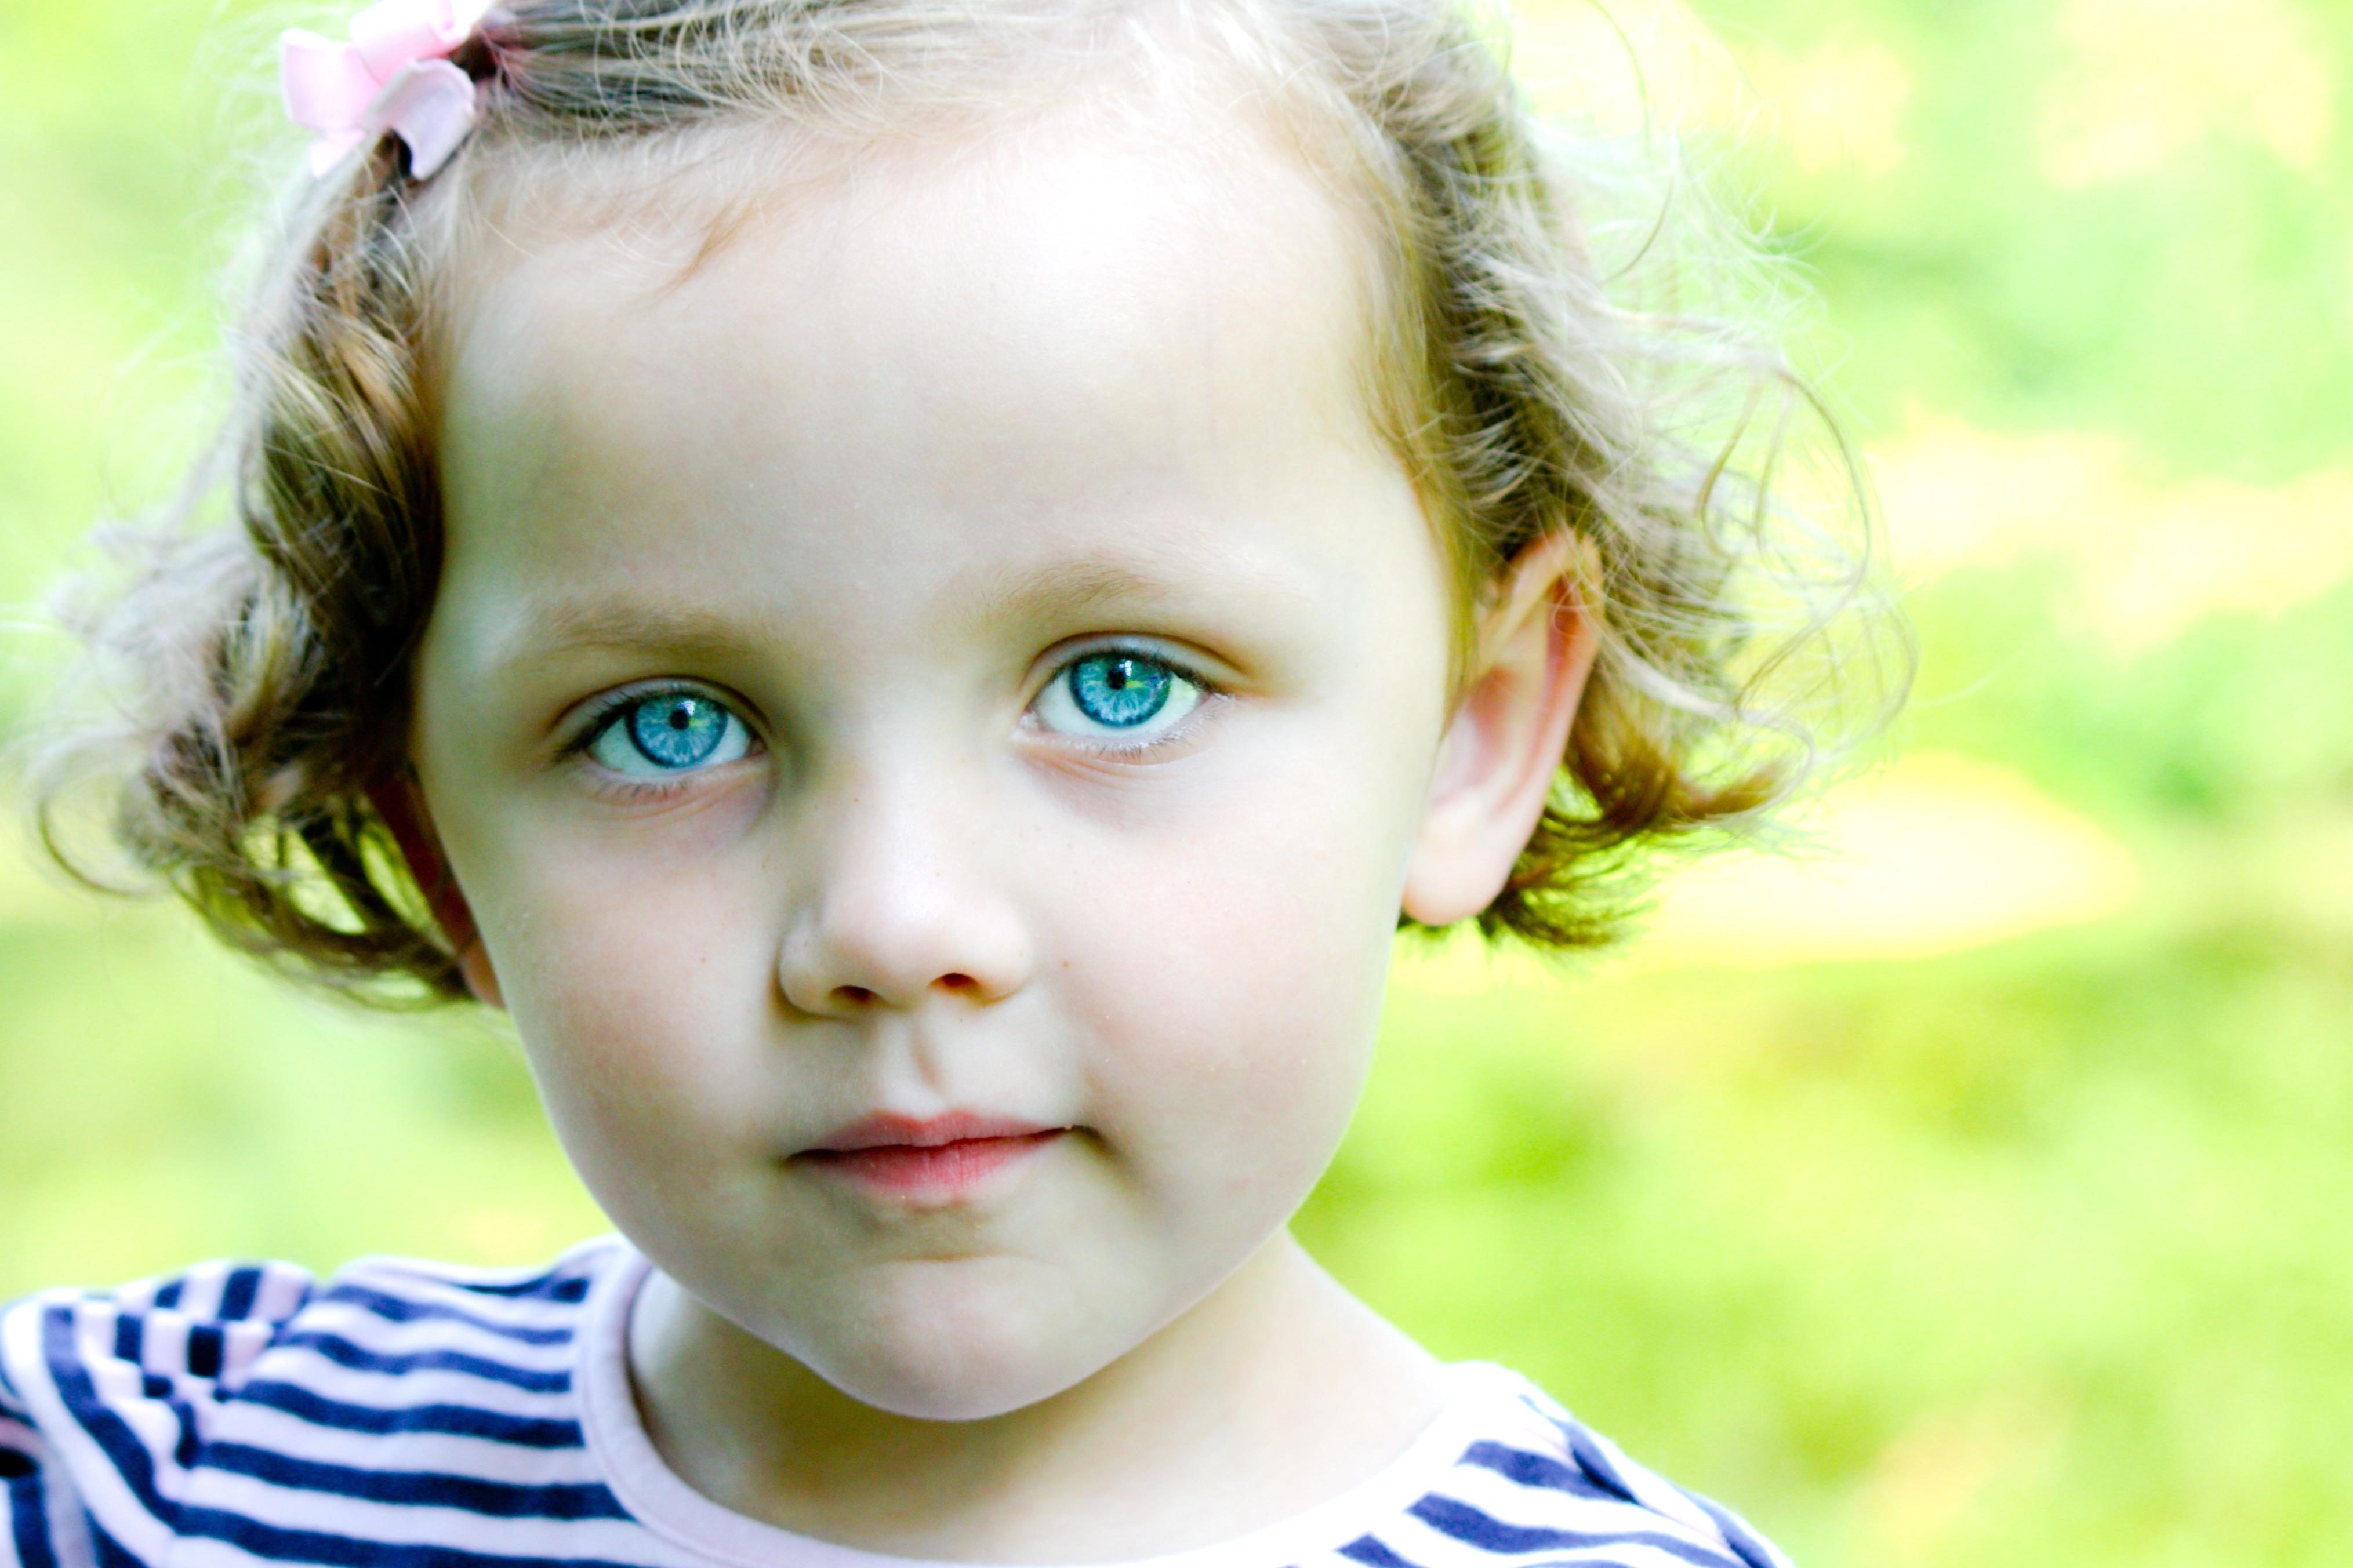without_mask: (395, 86, 1613, 1417)
